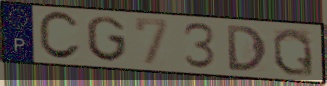3: (182, 21, 217, 70)
7: (132, 16, 174, 68)
C: (36, 10, 83, 62)
D: (224, 23, 269, 73)
G: (85, 15, 129, 64)
Q: (270, 26, 316, 78)
